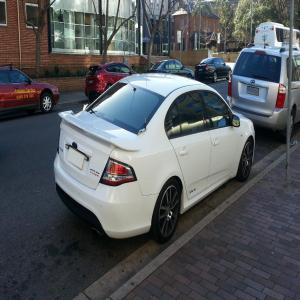Vehicle-registration-plate: (68, 149, 86, 171), (247, 88, 260, 97)
